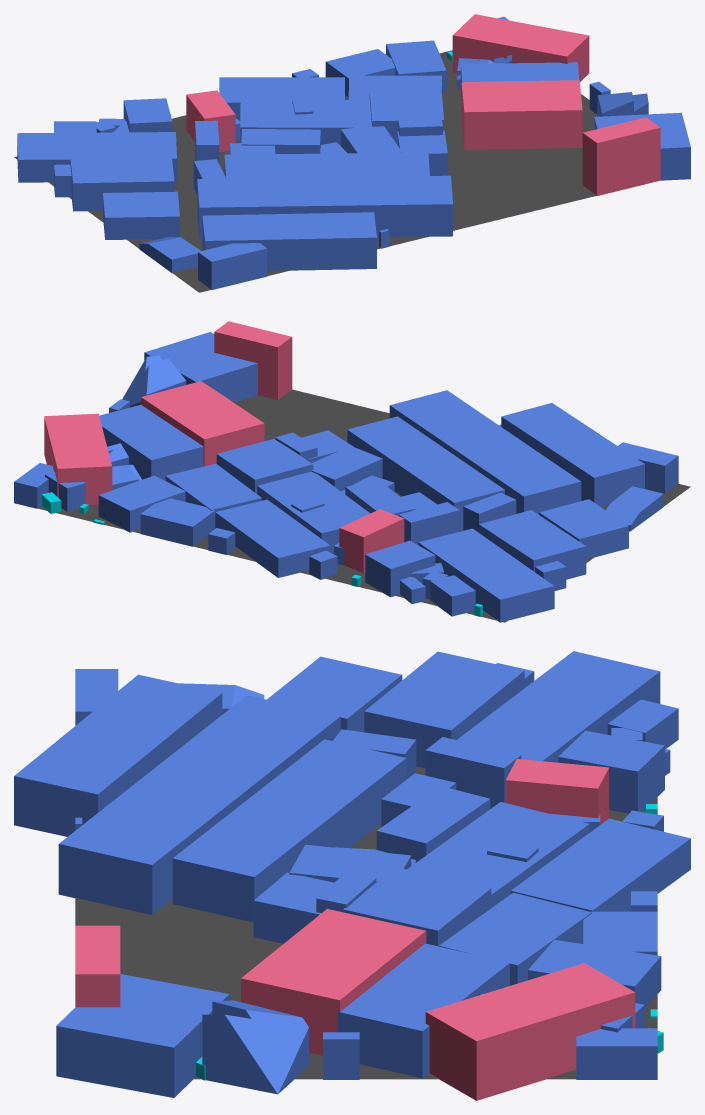
Rendered from city3d_selected.glb.
3 views of the same model, one above another, from view 1: azimuth 30°, elevation 25°; view 2: azimuth 150°, elevation 25°; view 3: azimuth 270°, elevation 25° (orthographic). The views are drawn at different scales.
Size of the model in its own units: 719 by 67.42 by 497.
